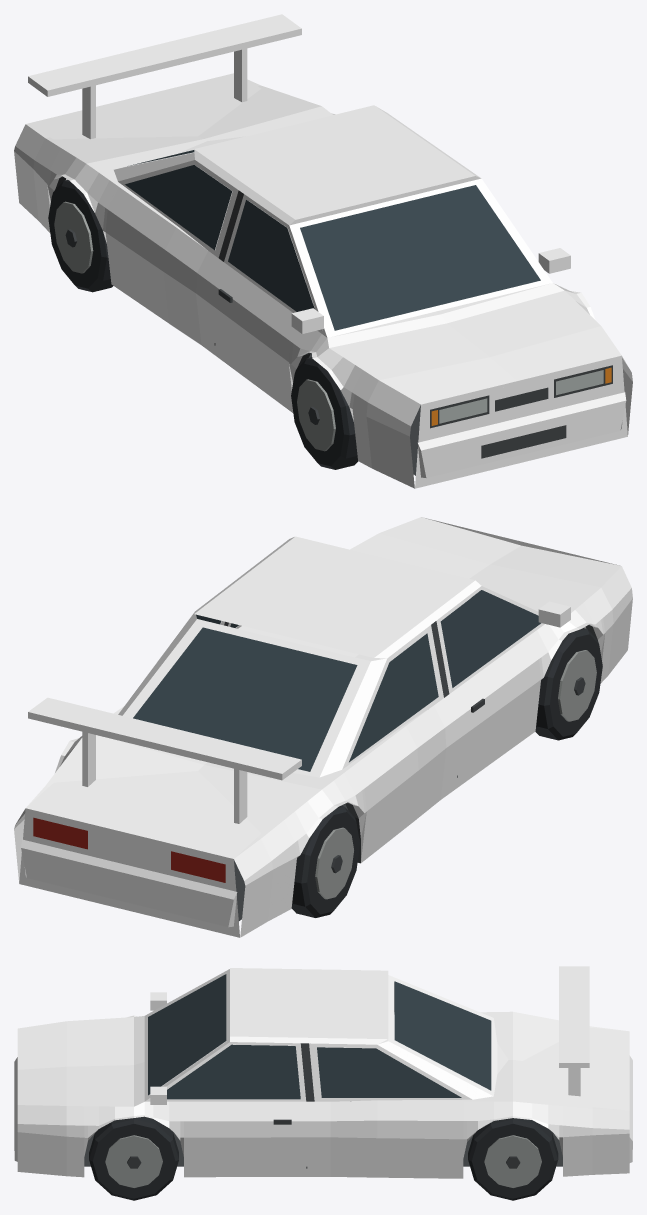
File: hozuki_uguisu_corrida.glb
3 renders of one model, top to bottom at view 1: azimuth 30°, elevation 25°; view 2: azimuth 150°, elevation 25°; view 3: azimuth 270°, elevation 25°, orthographic. The views are drawn at different scales.
Visible parts, largest first — view 1: hozuki_uguisu_corrida; view 2: hozuki_uguisu_corrida; view 3: hozuki_uguisu_corrida.
Boxes of the visible parts, x1,y1,x2,y2 form: hozuki_uguisu_corrida: (14, 14, 632, 488); hozuki_uguisu_corrida: (14, 517, 632, 937); hozuki_uguisu_corrida: (14, 966, 632, 1200).
Size of the model in its own units: 1.74 by 1.19 by 4.44.
Materials: 8 (1 with a texture image).
